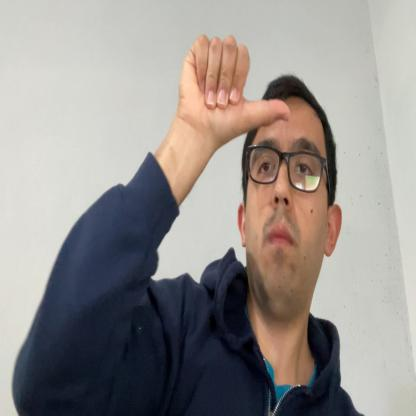A: (179, 33, 290, 146)
